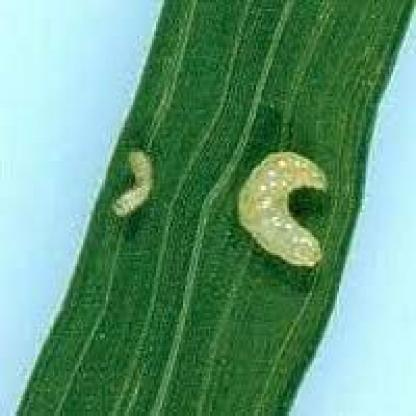whorl-maggot: (220, 135, 337, 272), (105, 130, 165, 226)
